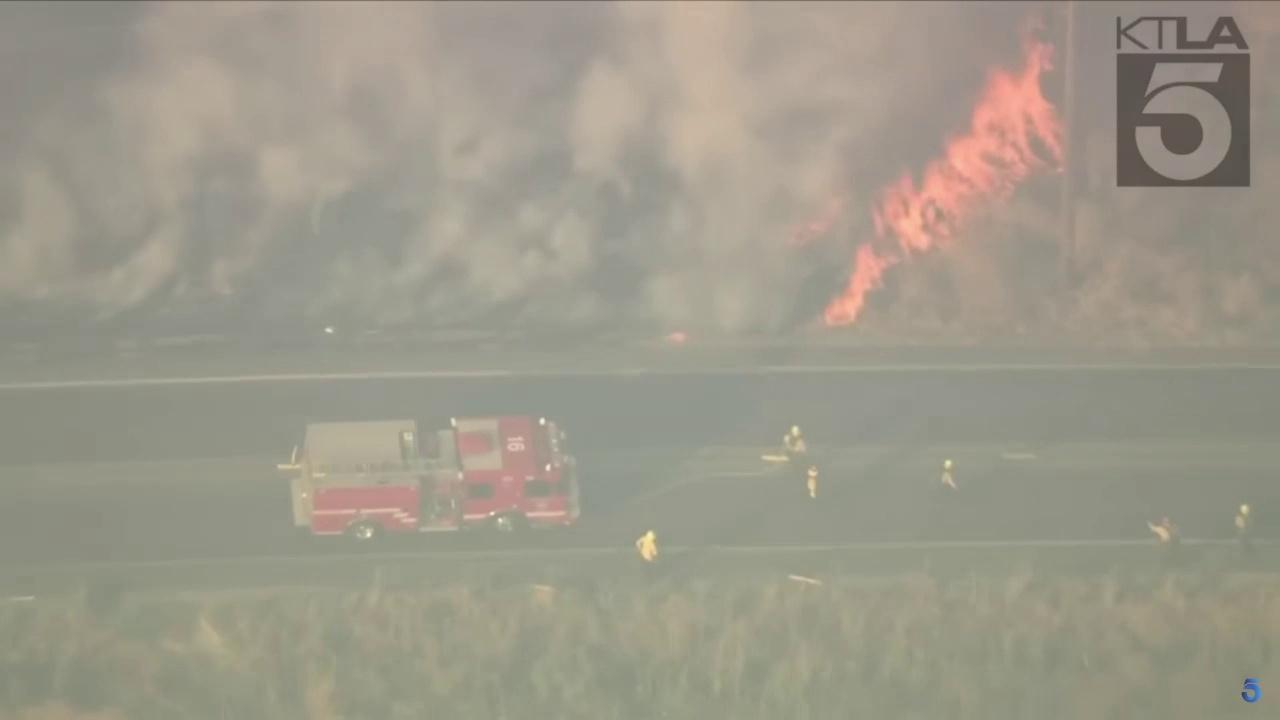fire: (819, 38, 1064, 329), (792, 197, 842, 248), (663, 330, 687, 344)
smoke: (0, 0, 1021, 338)
